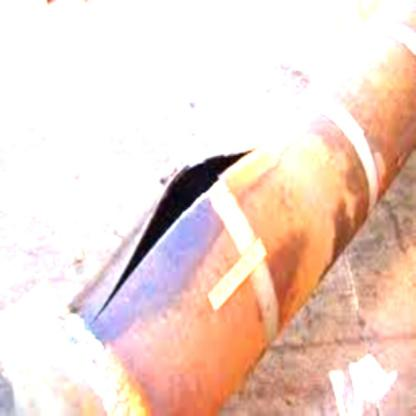burst: (87, 137, 263, 324)
